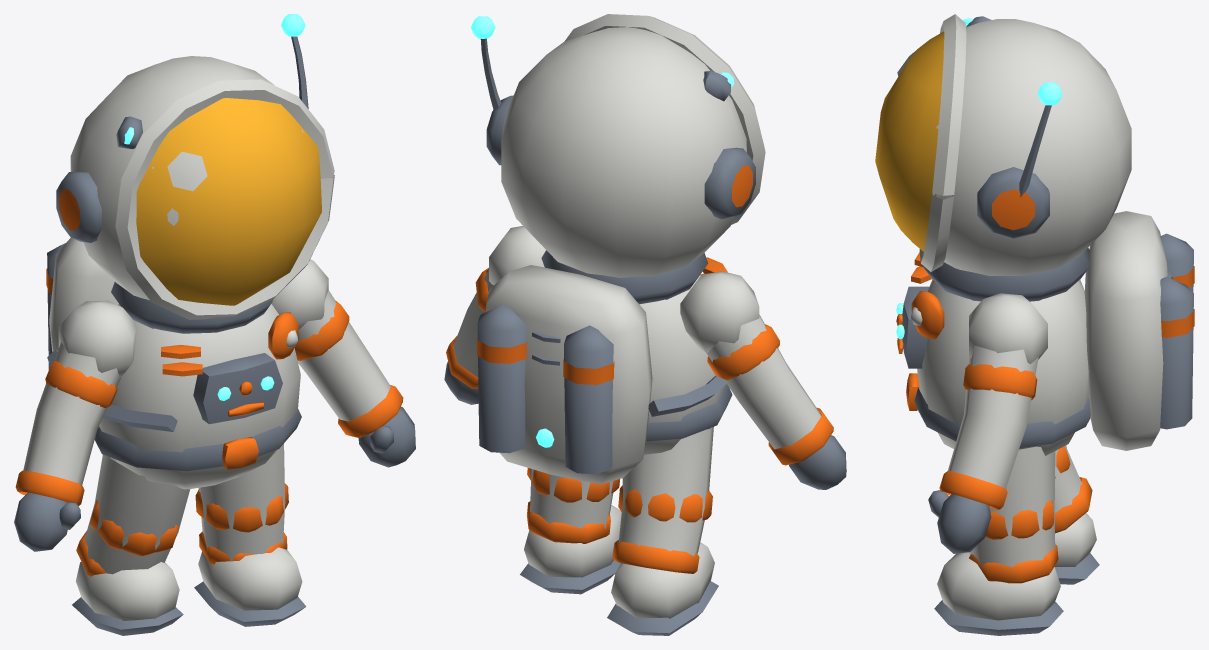
File: astronaut.glb
3 views of the same model, side by side, from view 1: azimuth 30°, elevation 25°; view 2: azimuth 150°, elevation 25°; view 3: azimuth 270°, elevation 25° (orthographic). The views are drawn at different scales.
Visible parts, largest first — view 1: body, head, arm_r, arm_l; view 2: body, head, arm_r, arm_l; view 3: body, head, arm_l.
Boxes of the visible parts, x1,y1,x2,y2 form: body: (46,237,306,635); head: (56,14,334,333); arm_r: (14,300,136,551); arm_l: (271,259,415,467); body: (477,257,732,635); head: (471,14,765,304); arm_r: (680,271,846,489); arm_l: (444,226,545,404); body: (896,211,1194,635); head: (875,14,1131,301); arm_l: (928,293,1047,553).
Size of the model in its own units: 1.29 by 1.75 by 0.8767.
